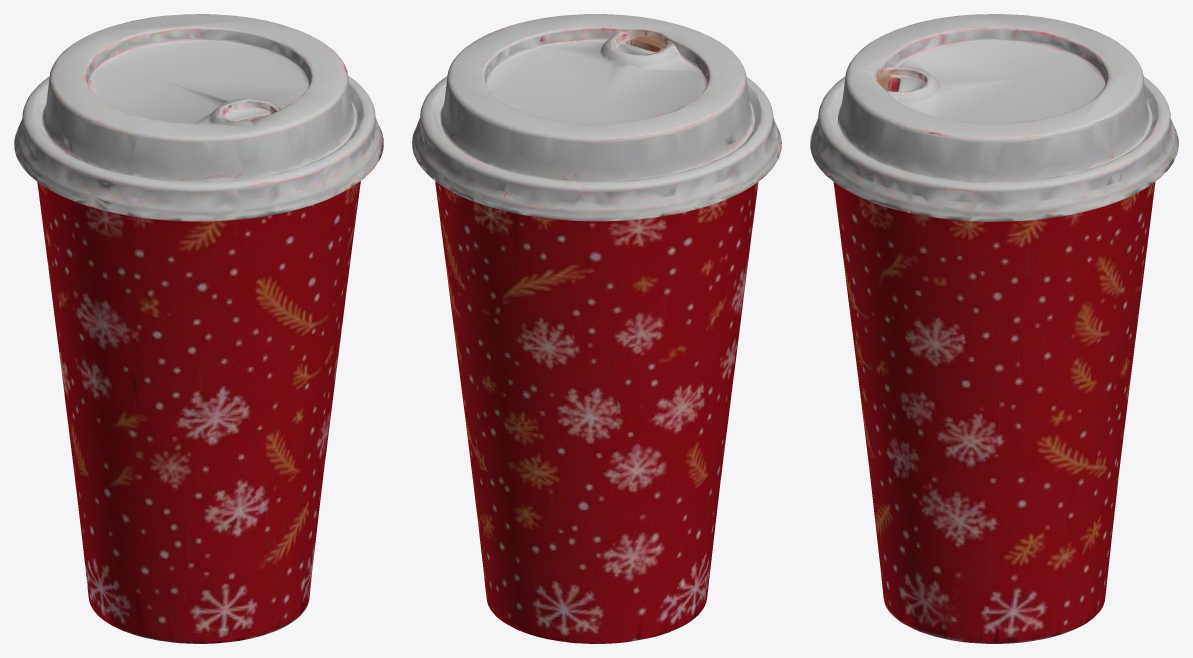
Rendered from item-cup.glb.
The picture shows the model from 3 angles, left to right: view 1: azimuth 30°, elevation 25°; view 2: azimuth 150°, elevation 25°; view 3: azimuth 270°, elevation 25°; orthographic projection.
Visible parts, largest first — view 1: material; view 2: material; view 3: material.
Boxes of the visible parts, bbox=[...] form: material: bbox=[14, 14, 383, 643]; material: bbox=[412, 14, 781, 643]; material: bbox=[810, 14, 1178, 643].
Size of the model in its own units: 0.6874 by 1.07 by 0.6839.
Materials: 1 (1 with a texture image).
